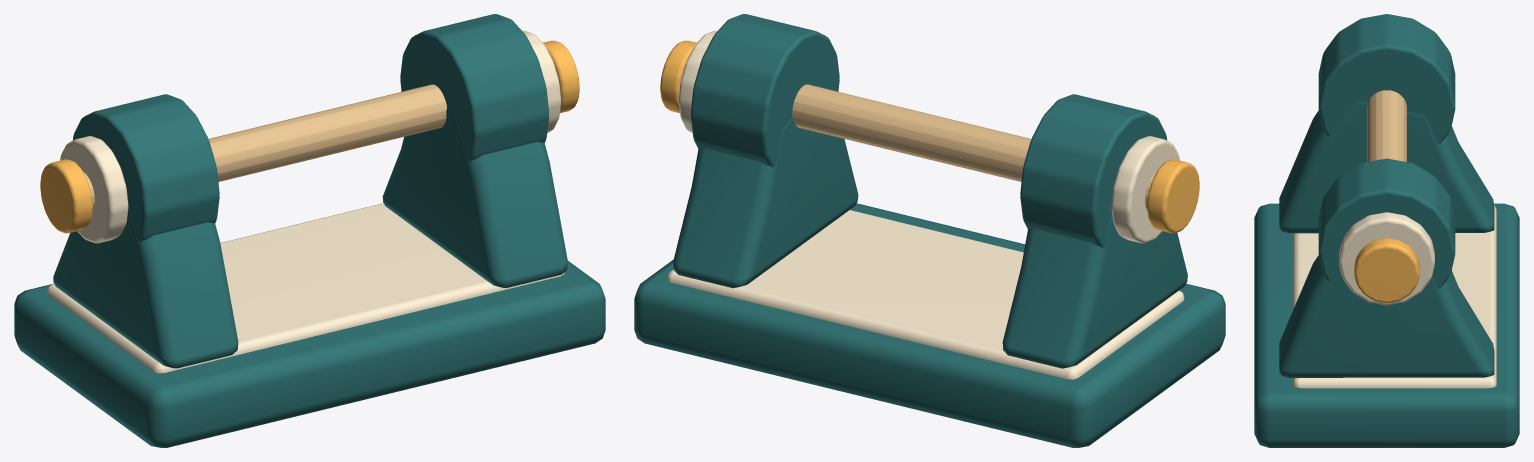
File: A20_AxleSupport.fbx
3 renders of one model, left to right at view 1: azimuth 30°, elevation 25°; view 2: azimuth 150°, elevation 25°; view 3: azimuth 270°, elevation 25°, orthographic. The views are drawn at different scales.
Parts seen in each view (by area): view 1: Diner stand foot, Cream foot inset, Triangular stand 1, Triangular stand -1, Enamel bearing 1, Enamel bearing -1, Steel pin, Washer -1, Honey axle cap -1, Honey axle cap 1, Washer 1; view 2: Diner stand foot, Cream foot inset, Triangular stand 1, Triangular stand -1, Enamel bearing 1, Enamel bearing -1, Steel pin, Washer -1, Honey axle cap -1, Honey axle cap 1, Washer 1; view 3: Diner stand foot, Triangular stand 1, Enamel bearing -1, Triangular stand -1, Enamel bearing 1, Cream foot inset, Washer 1, Honey axle cap 1, Steel pin.
Boxes of the visible parts, x1,y1,x2,y2 form: Diner stand foot: (14,260,605,447); Cream foot inset: (47,203,564,373); Triangular stand 1: (382,107,567,287); Triangular stand -1: (53,205,238,368); Enamel bearing 1: (400,14,548,161); Enamel bearing -1: (72,94,219,241); Steel pin: (83,84,446,209); Washer -1: (60,136,128,243); Honey axle cap -1: (40,159,92,233); Honey axle cap 1: (543,40,579,113); Washer 1: (522,30,560,132); Diner stand foot: (634,203,1225,447); Cream foot inset: (667,210,1184,379); Triangular stand 1: (673,86,858,288); Triangular stand -1: (1002,211,1187,368); Enamel bearing 1: (691,14,839,167); Enamel bearing -1: (1020,94,1167,247); Steel pin: (792,84,1156,209); Washer -1: (1111,136,1179,243); Honey axle cap -1: (1147,159,1199,233); Honey axle cap 1: (660,40,696,113); Washer 1: (679,30,717,132); Diner stand foot: (1254,203,1519,447); Triangular stand 1: (1279,255,1494,377); Enamel bearing -1: (1318,14,1455,143); Triangular stand -1: (1279,100,1494,233); Enamel bearing 1: (1318,158,1455,288); Cream foot inset: (1292,205,1496,388); Washer 1: (1339,212,1434,305); Honey axle cap 1: (1354,238,1419,303); Steel pin: (1367,90,1406,161).
Bounding box in the file's own units: 0.206 × 0.1088 × 0.104.
